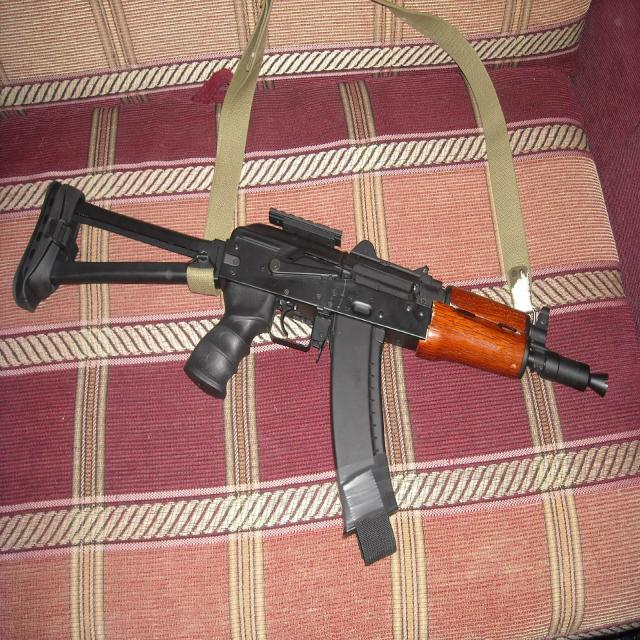firearm: (12, 180, 607, 532)
